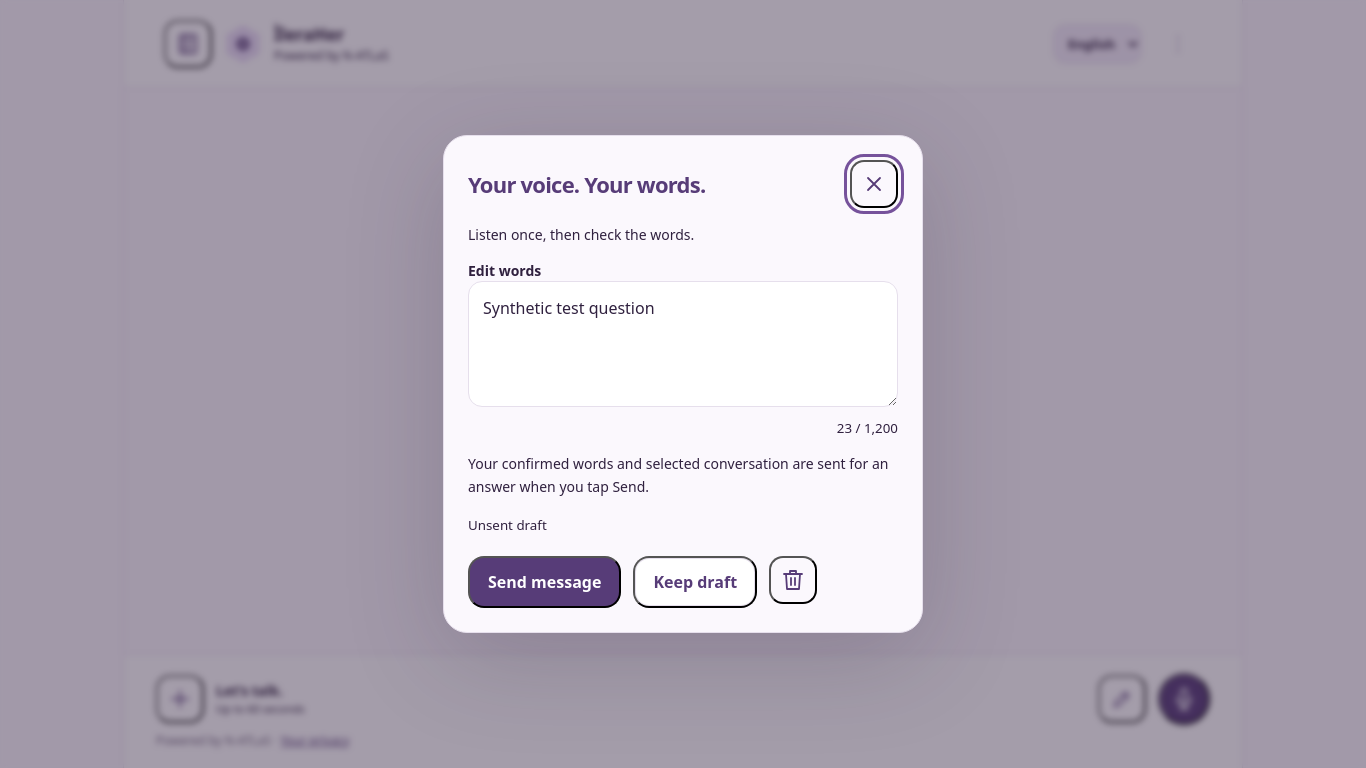
Test: explicit voice review workflow › sends a restored draft only on explicit Send and preserves retry data on failure
Step 1. Click the button "Send message" → [545, 582], box [468,556,621,608]
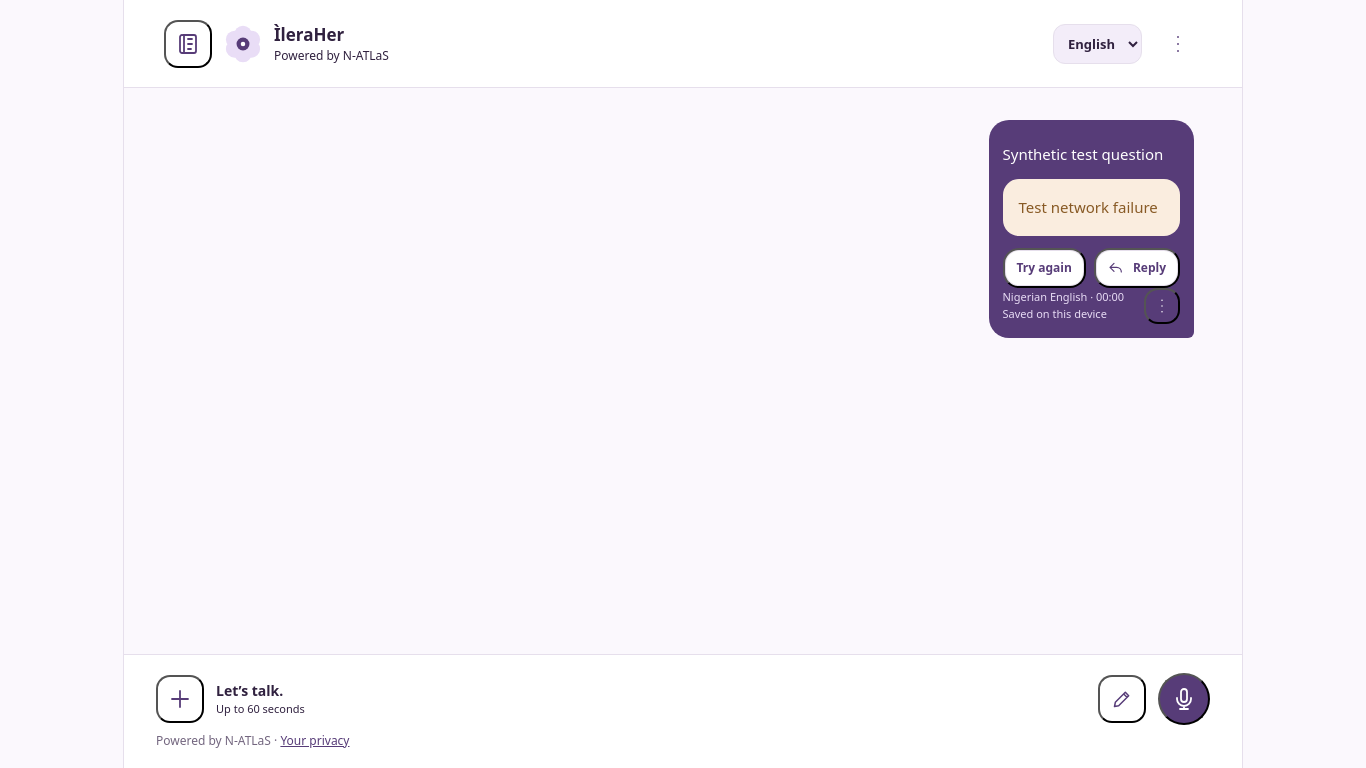
Expected: the text "Try again" is shown, [1002,248,1086,288]
